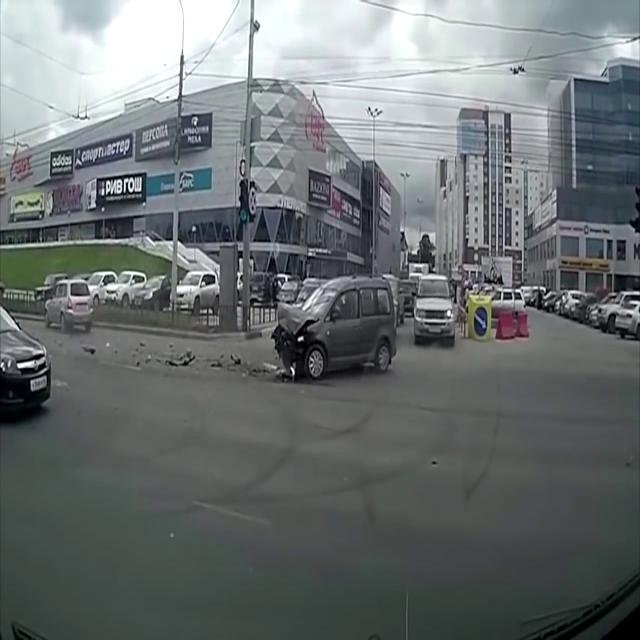single accident: (237, 215, 435, 423)
